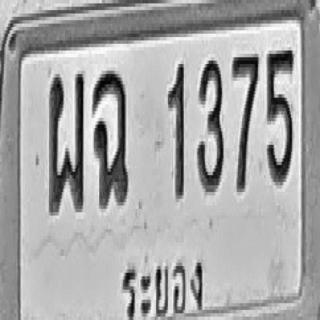A09: (92, 69, 129, 207)
A28: (48, 71, 84, 212)
N01: (167, 61, 184, 199)
N03: (197, 57, 223, 192)
N05: (266, 47, 294, 185)
N07: (231, 50, 259, 192)
P53: (115, 252, 211, 320)
